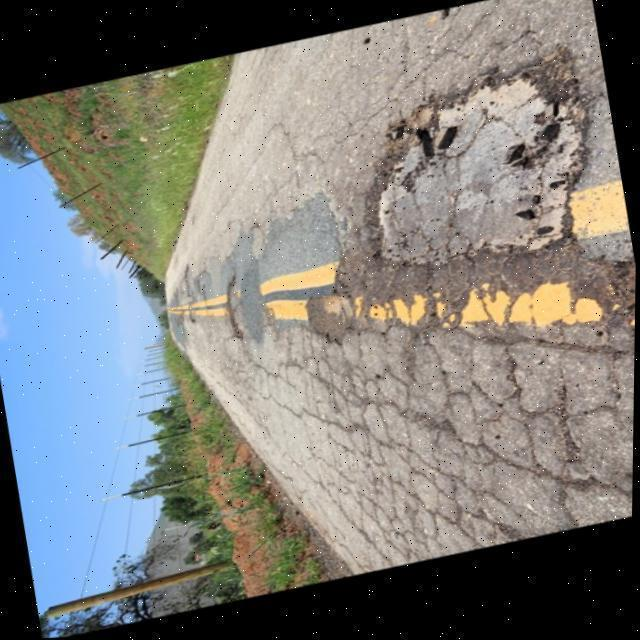Pothole: (359, 65, 593, 280), (222, 272, 252, 346)
